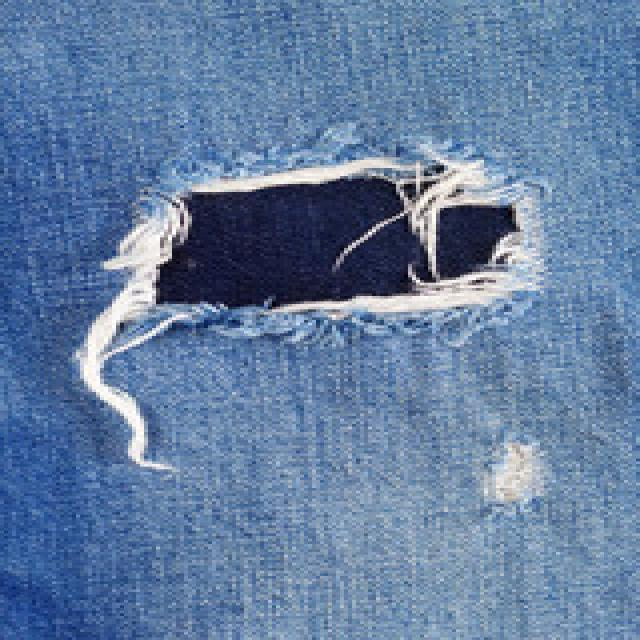Hole: (77, 158, 539, 466)
Stain: (485, 443, 545, 504)
